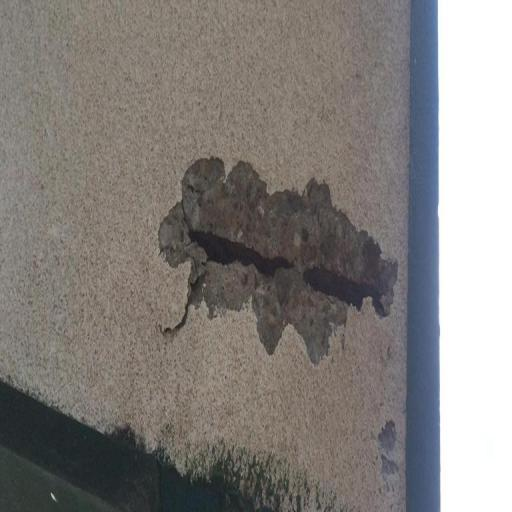spalling: (153, 156, 393, 361), (146, 269, 202, 350)
